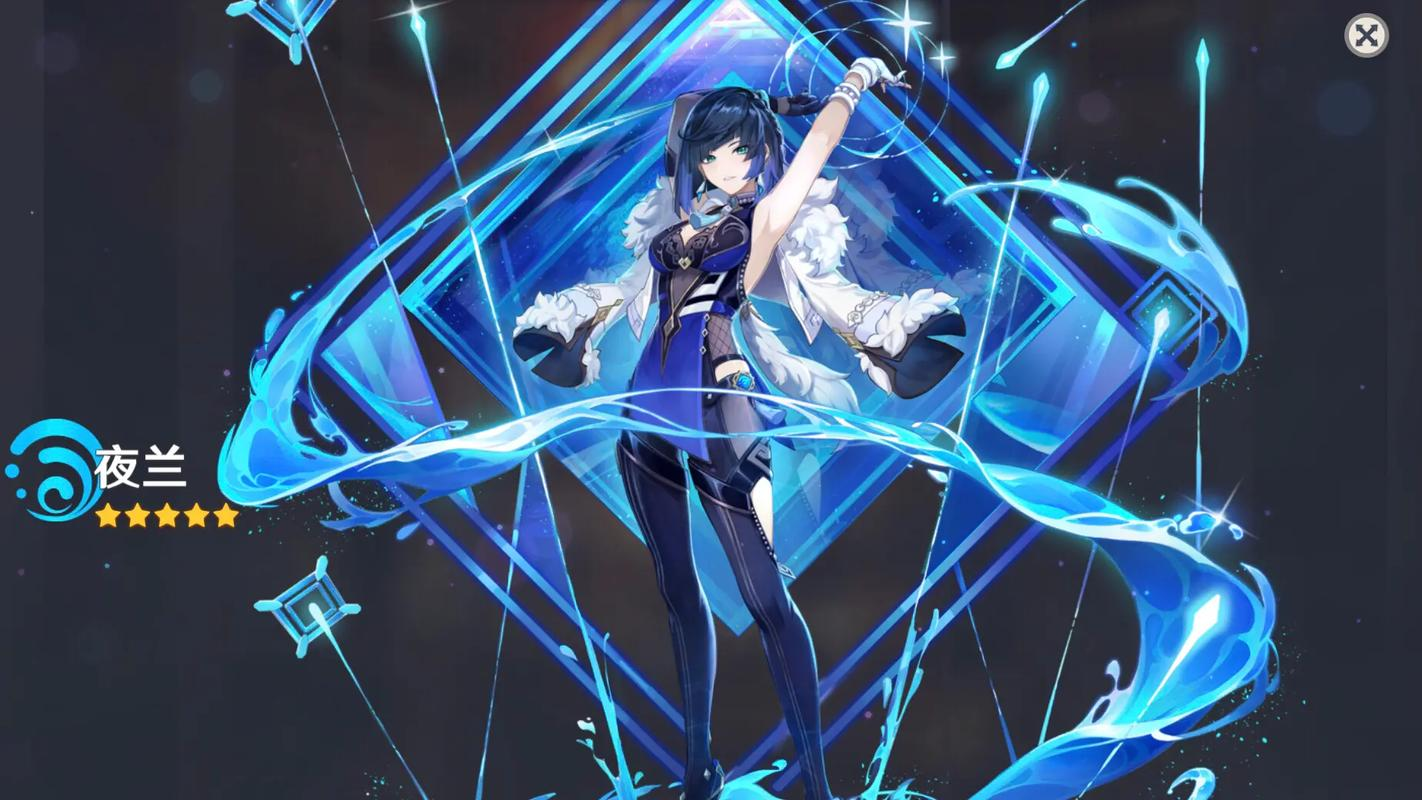夜兰: (613, 54, 913, 800)
